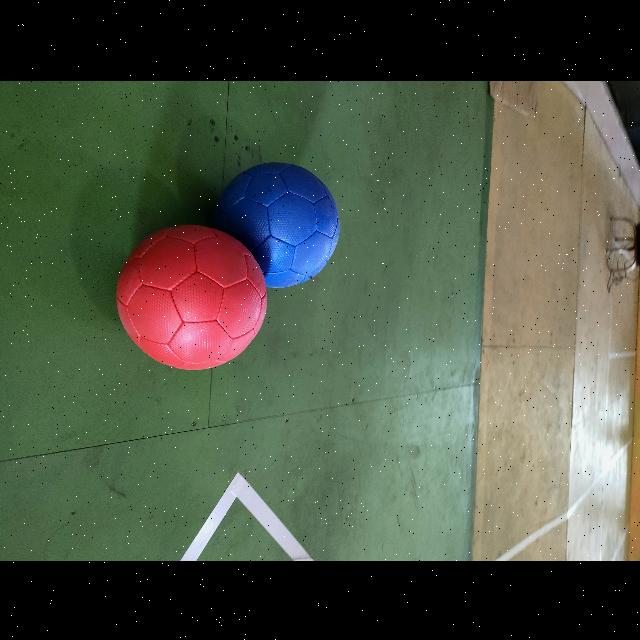B: (206, 161, 341, 289)
R: (116, 223, 268, 369)
